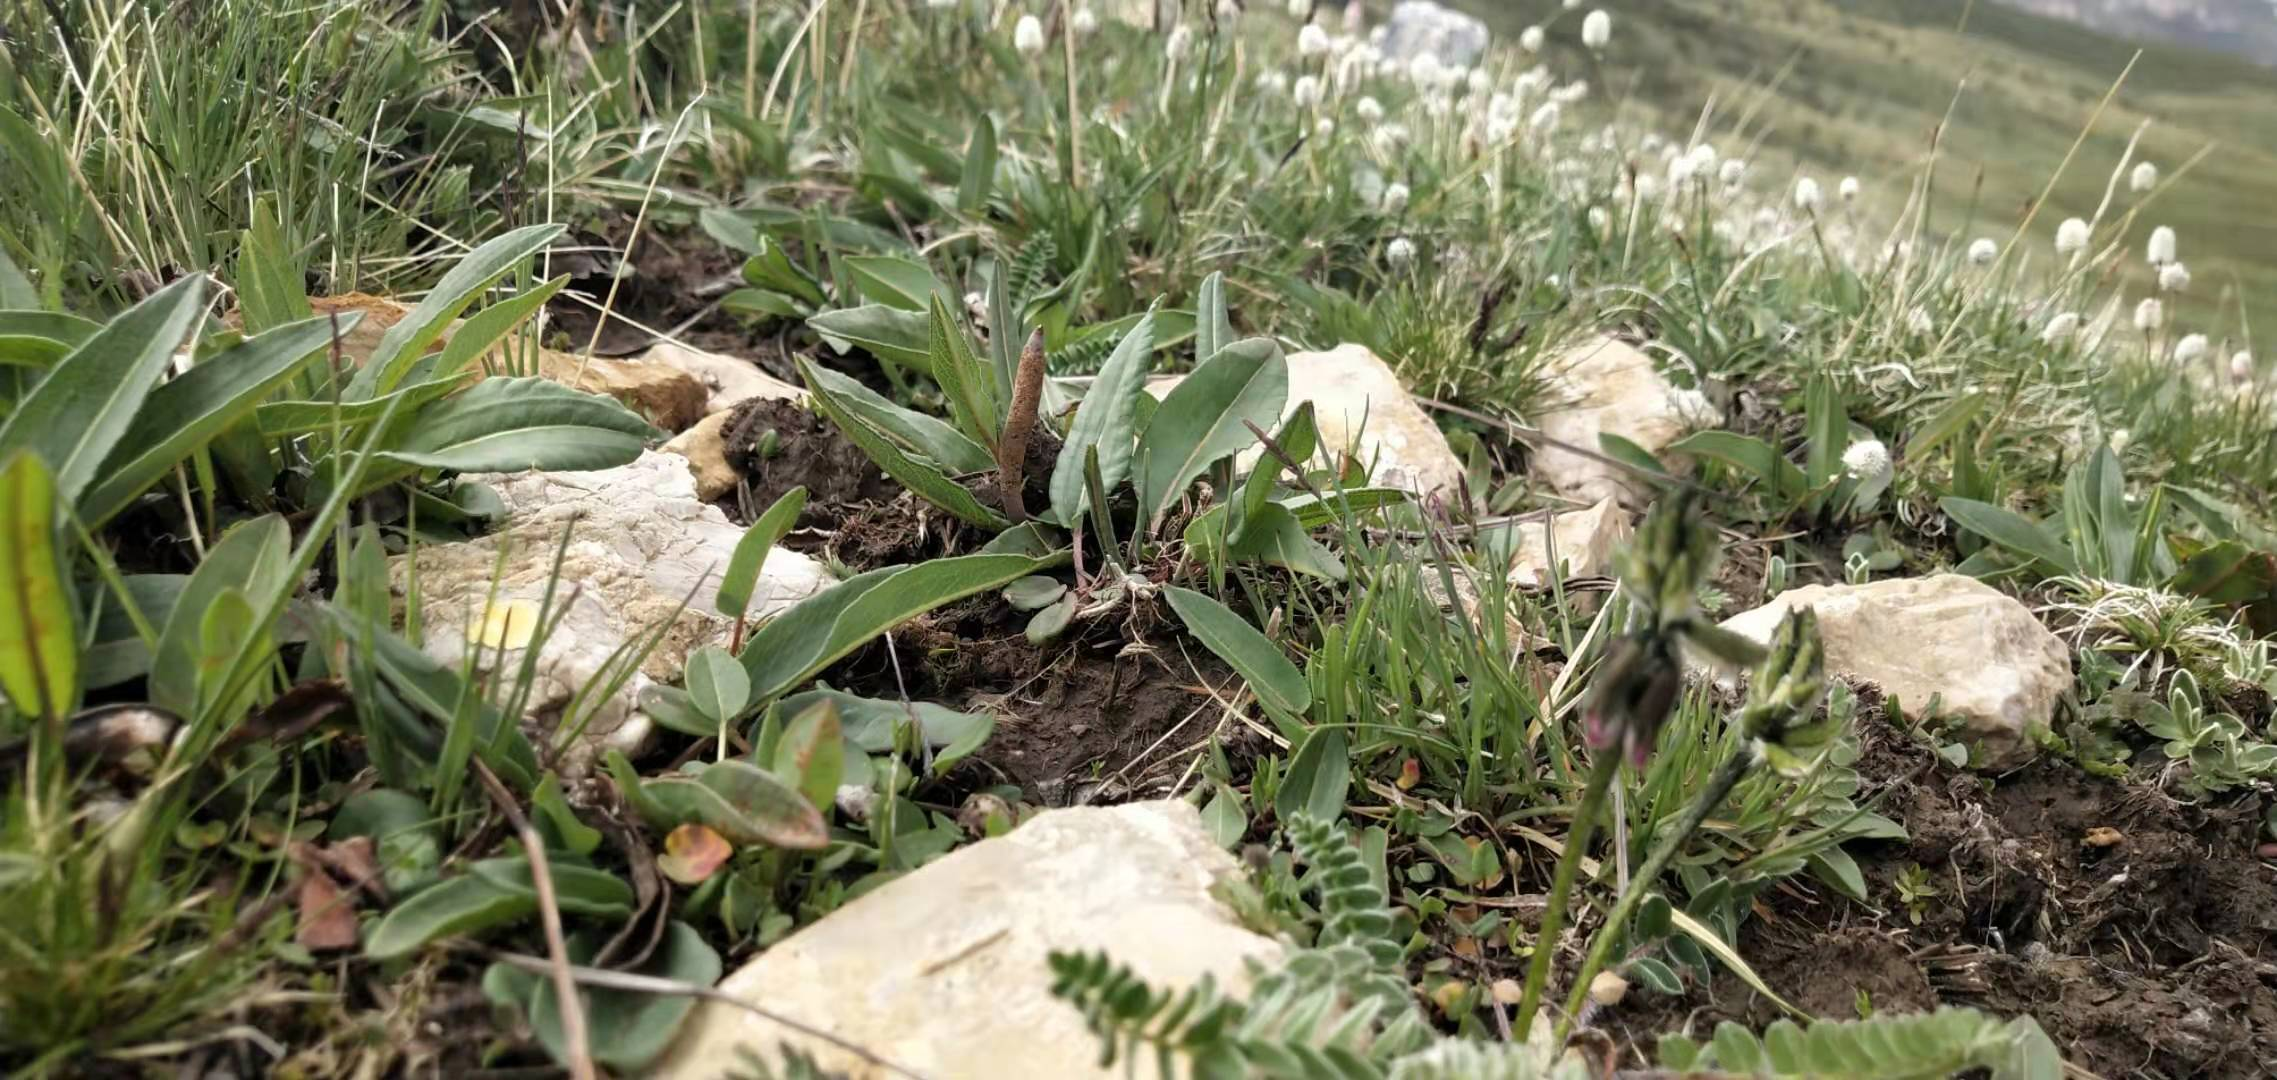Chongcao: (998, 322, 1047, 525)
